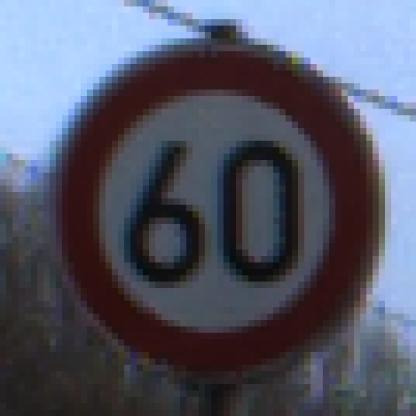Speed Limit -60-: (97, 61, 370, 355)
